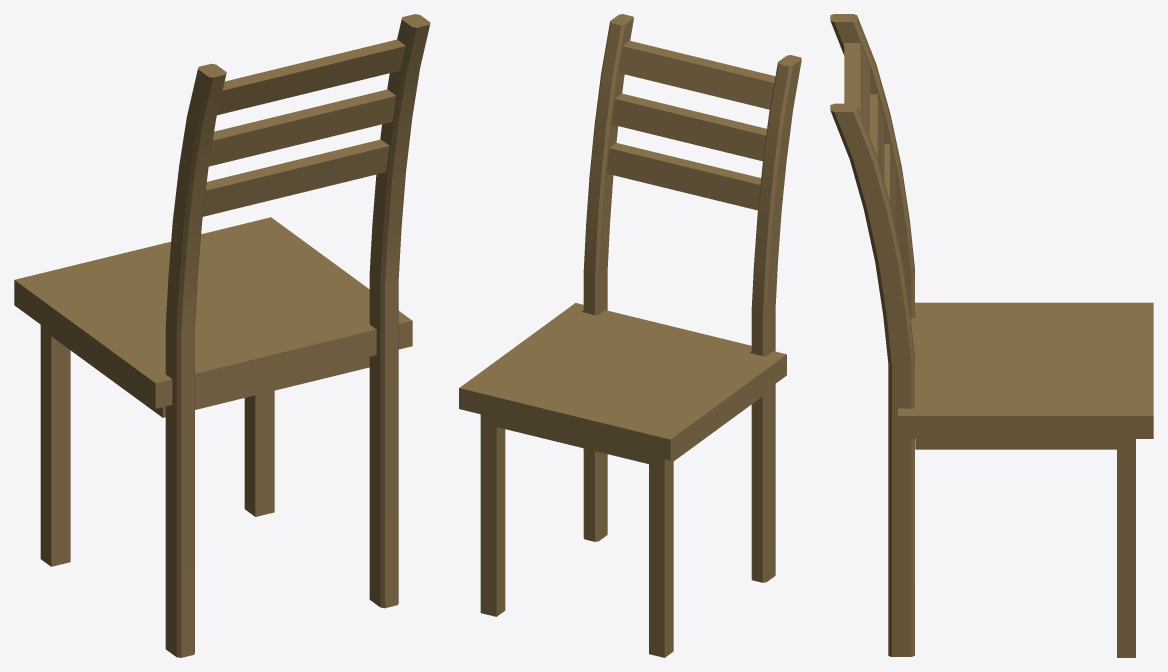
The model's file is chair.fbx.
3 views of the same model, side by side, from view 1: azimuth 30°, elevation 25°; view 2: azimuth 150°, elevation 25°; view 3: azimuth 270°, elevation 25° (orthographic). The views are drawn at different scales.
Parts seen in each view (by area): view 1: Chair1; view 2: Chair1; view 3: Chair1.
Part boxes in pixels (bbox=[...]): Chair1: bbox=[14, 14, 430, 657]; Chair1: bbox=[459, 14, 801, 657]; Chair1: bbox=[830, 14, 1153, 657].
Size of the model in its own units: 1.35 by 3.03 by 1.63.
